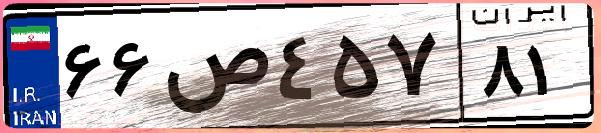1: (525, 38, 570, 115)
4: (270, 28, 330, 110)
5: (330, 28, 385, 110)
6: (57, 26, 110, 100), (110, 28, 158, 98)
7: (385, 28, 445, 110)
8: (475, 38, 525, 113)
ص: (158, 20, 270, 120)
